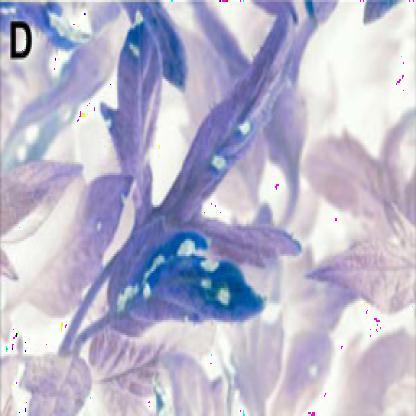Tomato leaf late blight: (102, 13, 284, 341)
